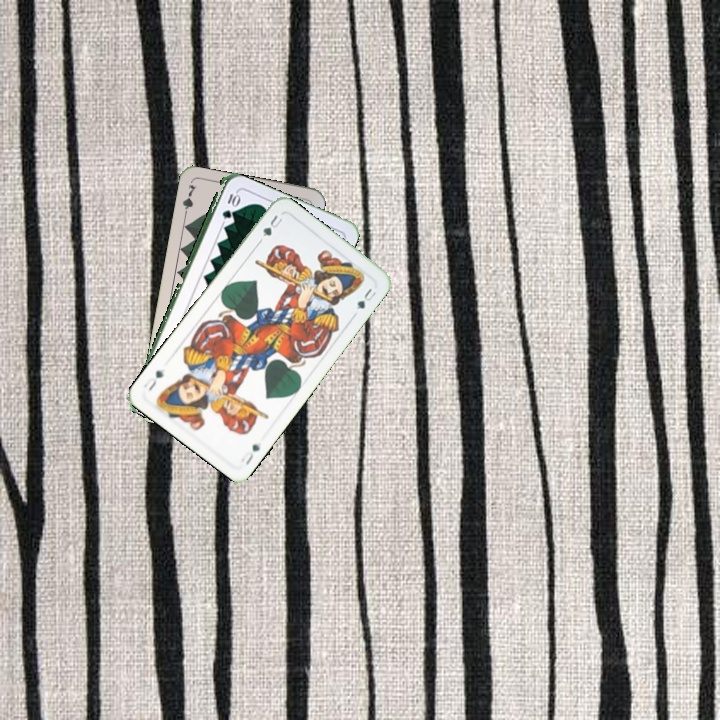G10: (218, 189, 240, 222)
G7: (178, 181, 199, 221)
GU: (255, 211, 285, 245), (237, 440, 263, 467)
